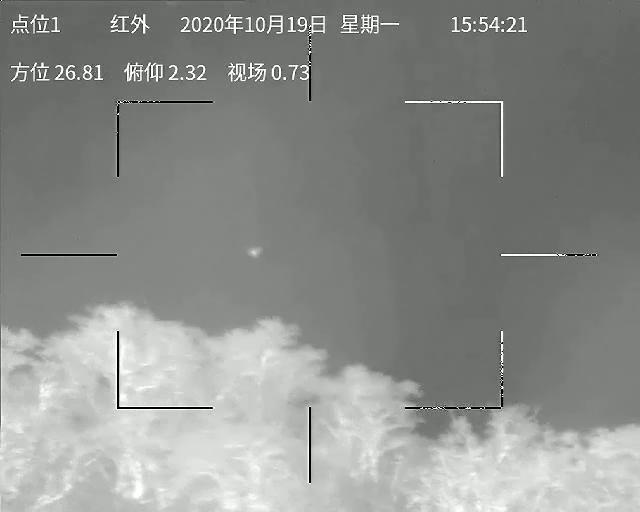uav: (246, 244, 264, 261)
